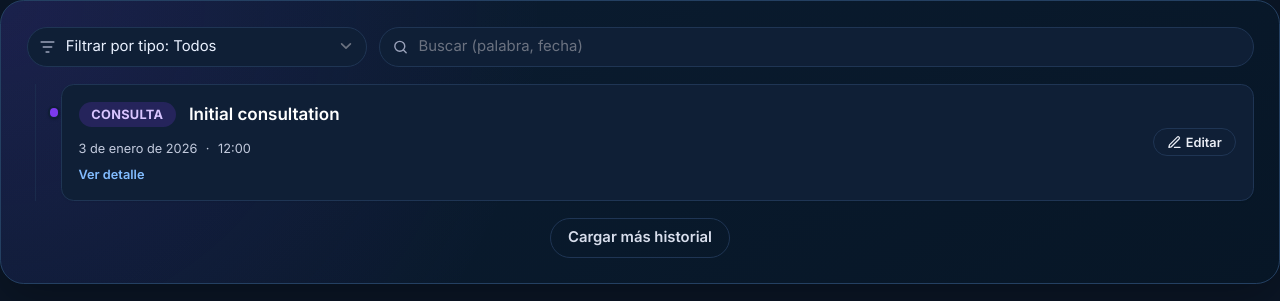
Scenario: patient history interaction and request ownership › shows a filtered empty state and restores history when clearing filters
The image size is (1280, 301).
Type "No matches" into the search field at (816, 47), box top-left (379, 26), bottom-right (1254, 67)
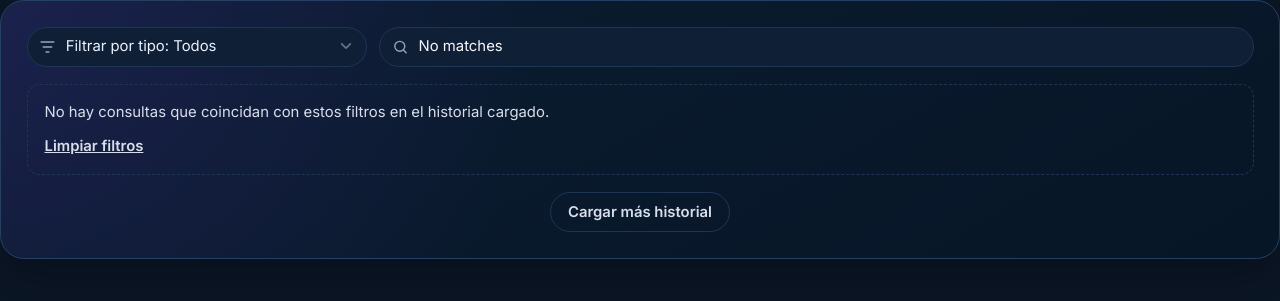
Check: the message shows "No hay consultas que coincidan", box top-left (44, 103), bottom-right (549, 121)
Click the button "Limpiar filtros" at (94, 146), box top-left (44, 136), bottom-right (143, 157)
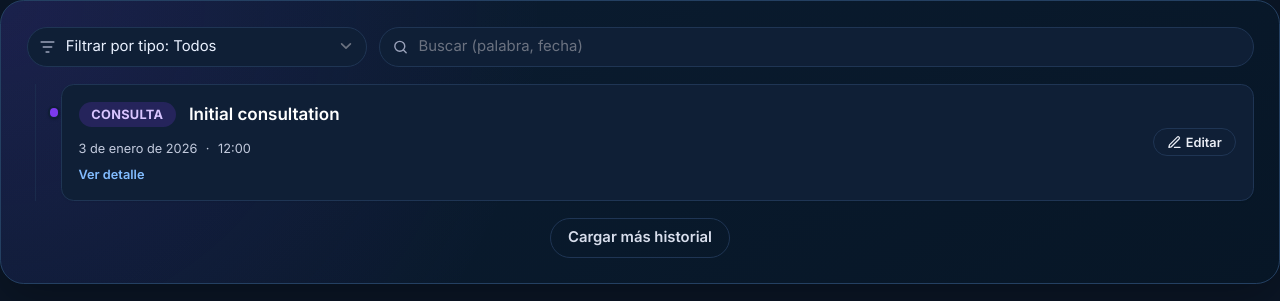
Check: the text "Initial consultation" is shown, box top-left (189, 102), bottom-right (340, 127)
Check: the search field is empty, box top-left (379, 26), bottom-right (1254, 67)
